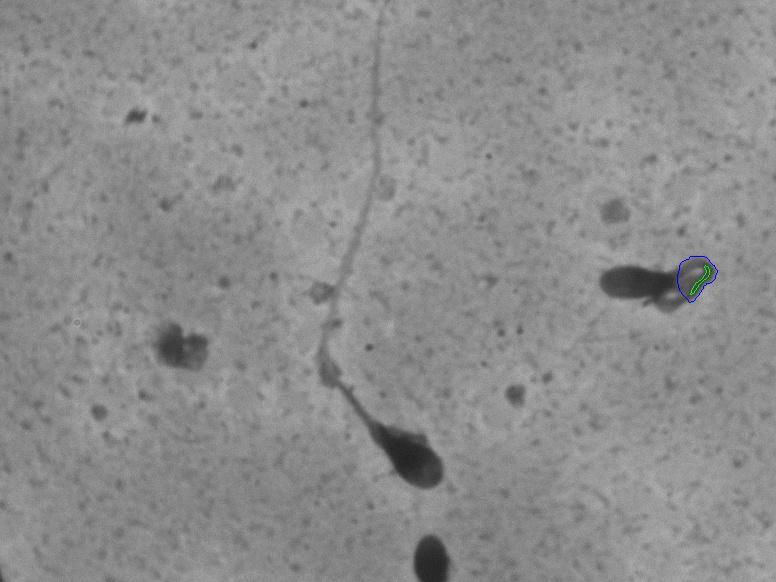Abnormal: (257, 42, 513, 520), (582, 210, 742, 344)
